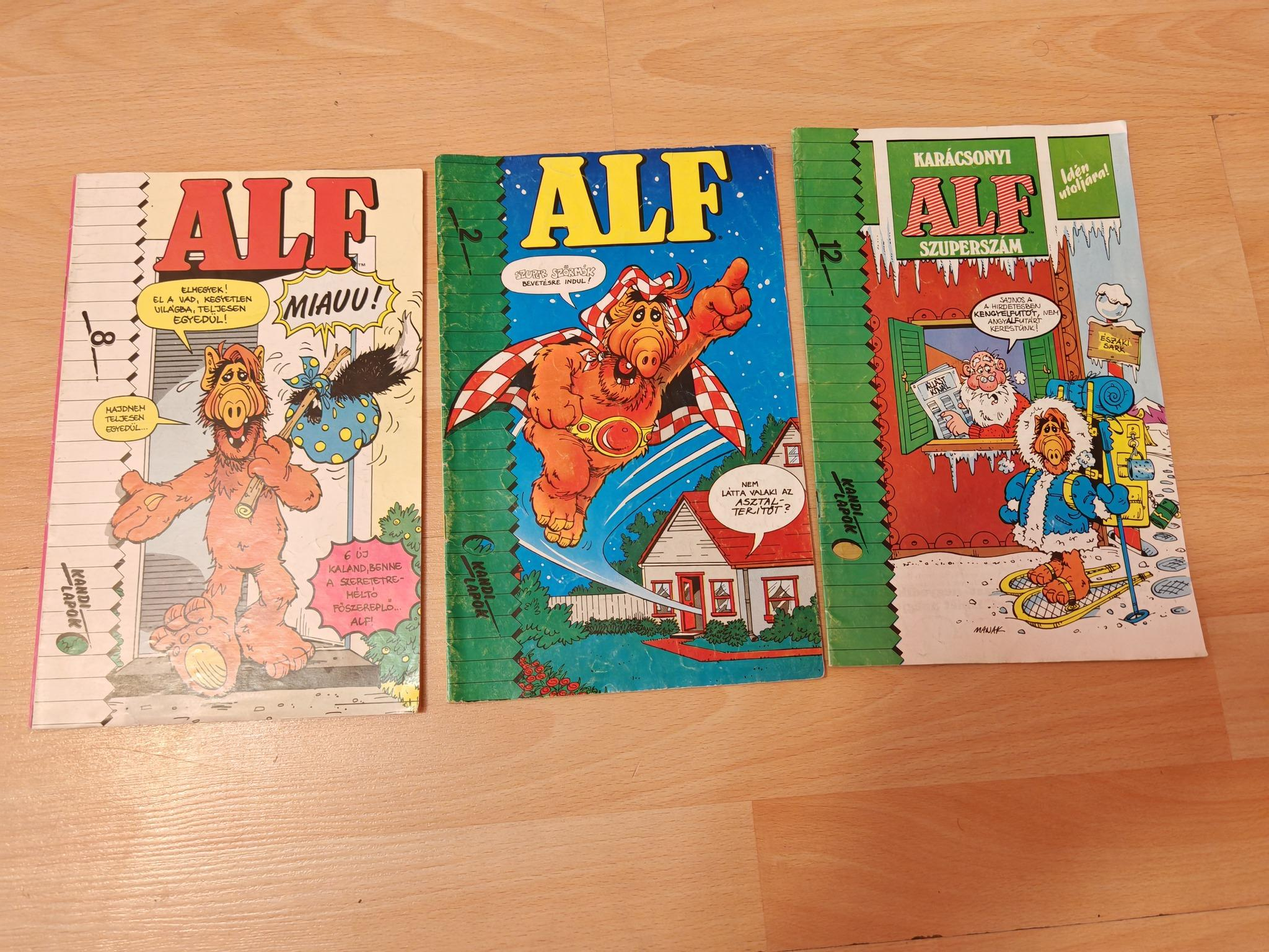comic: (792, 105, 1205, 681), (33, 168, 423, 729), (432, 144, 824, 701)
